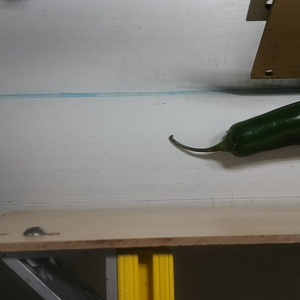Cut Point: (216, 121, 252, 161)
